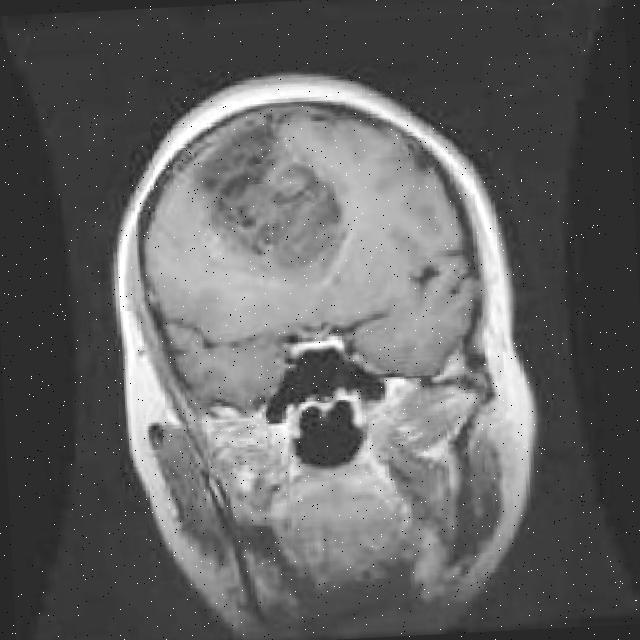MCI: (188, 145, 387, 281)
